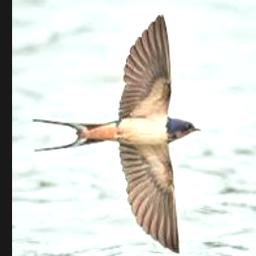Swallow: (33, 14, 202, 252)
